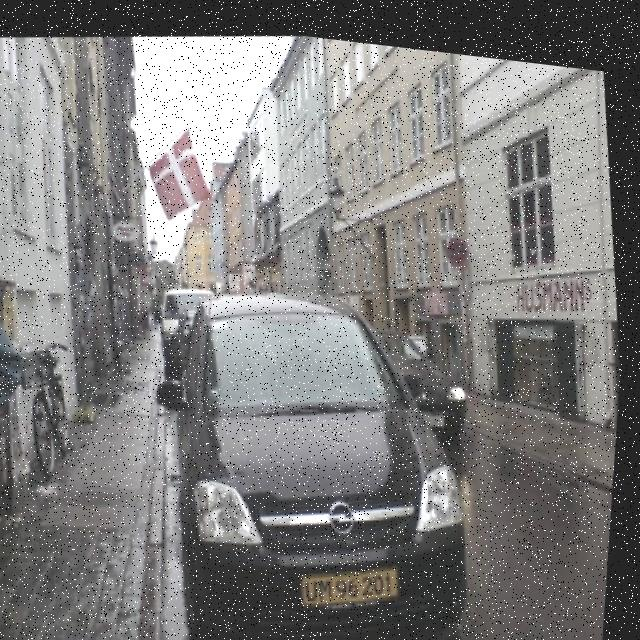license_plate: (304, 546, 410, 610)
